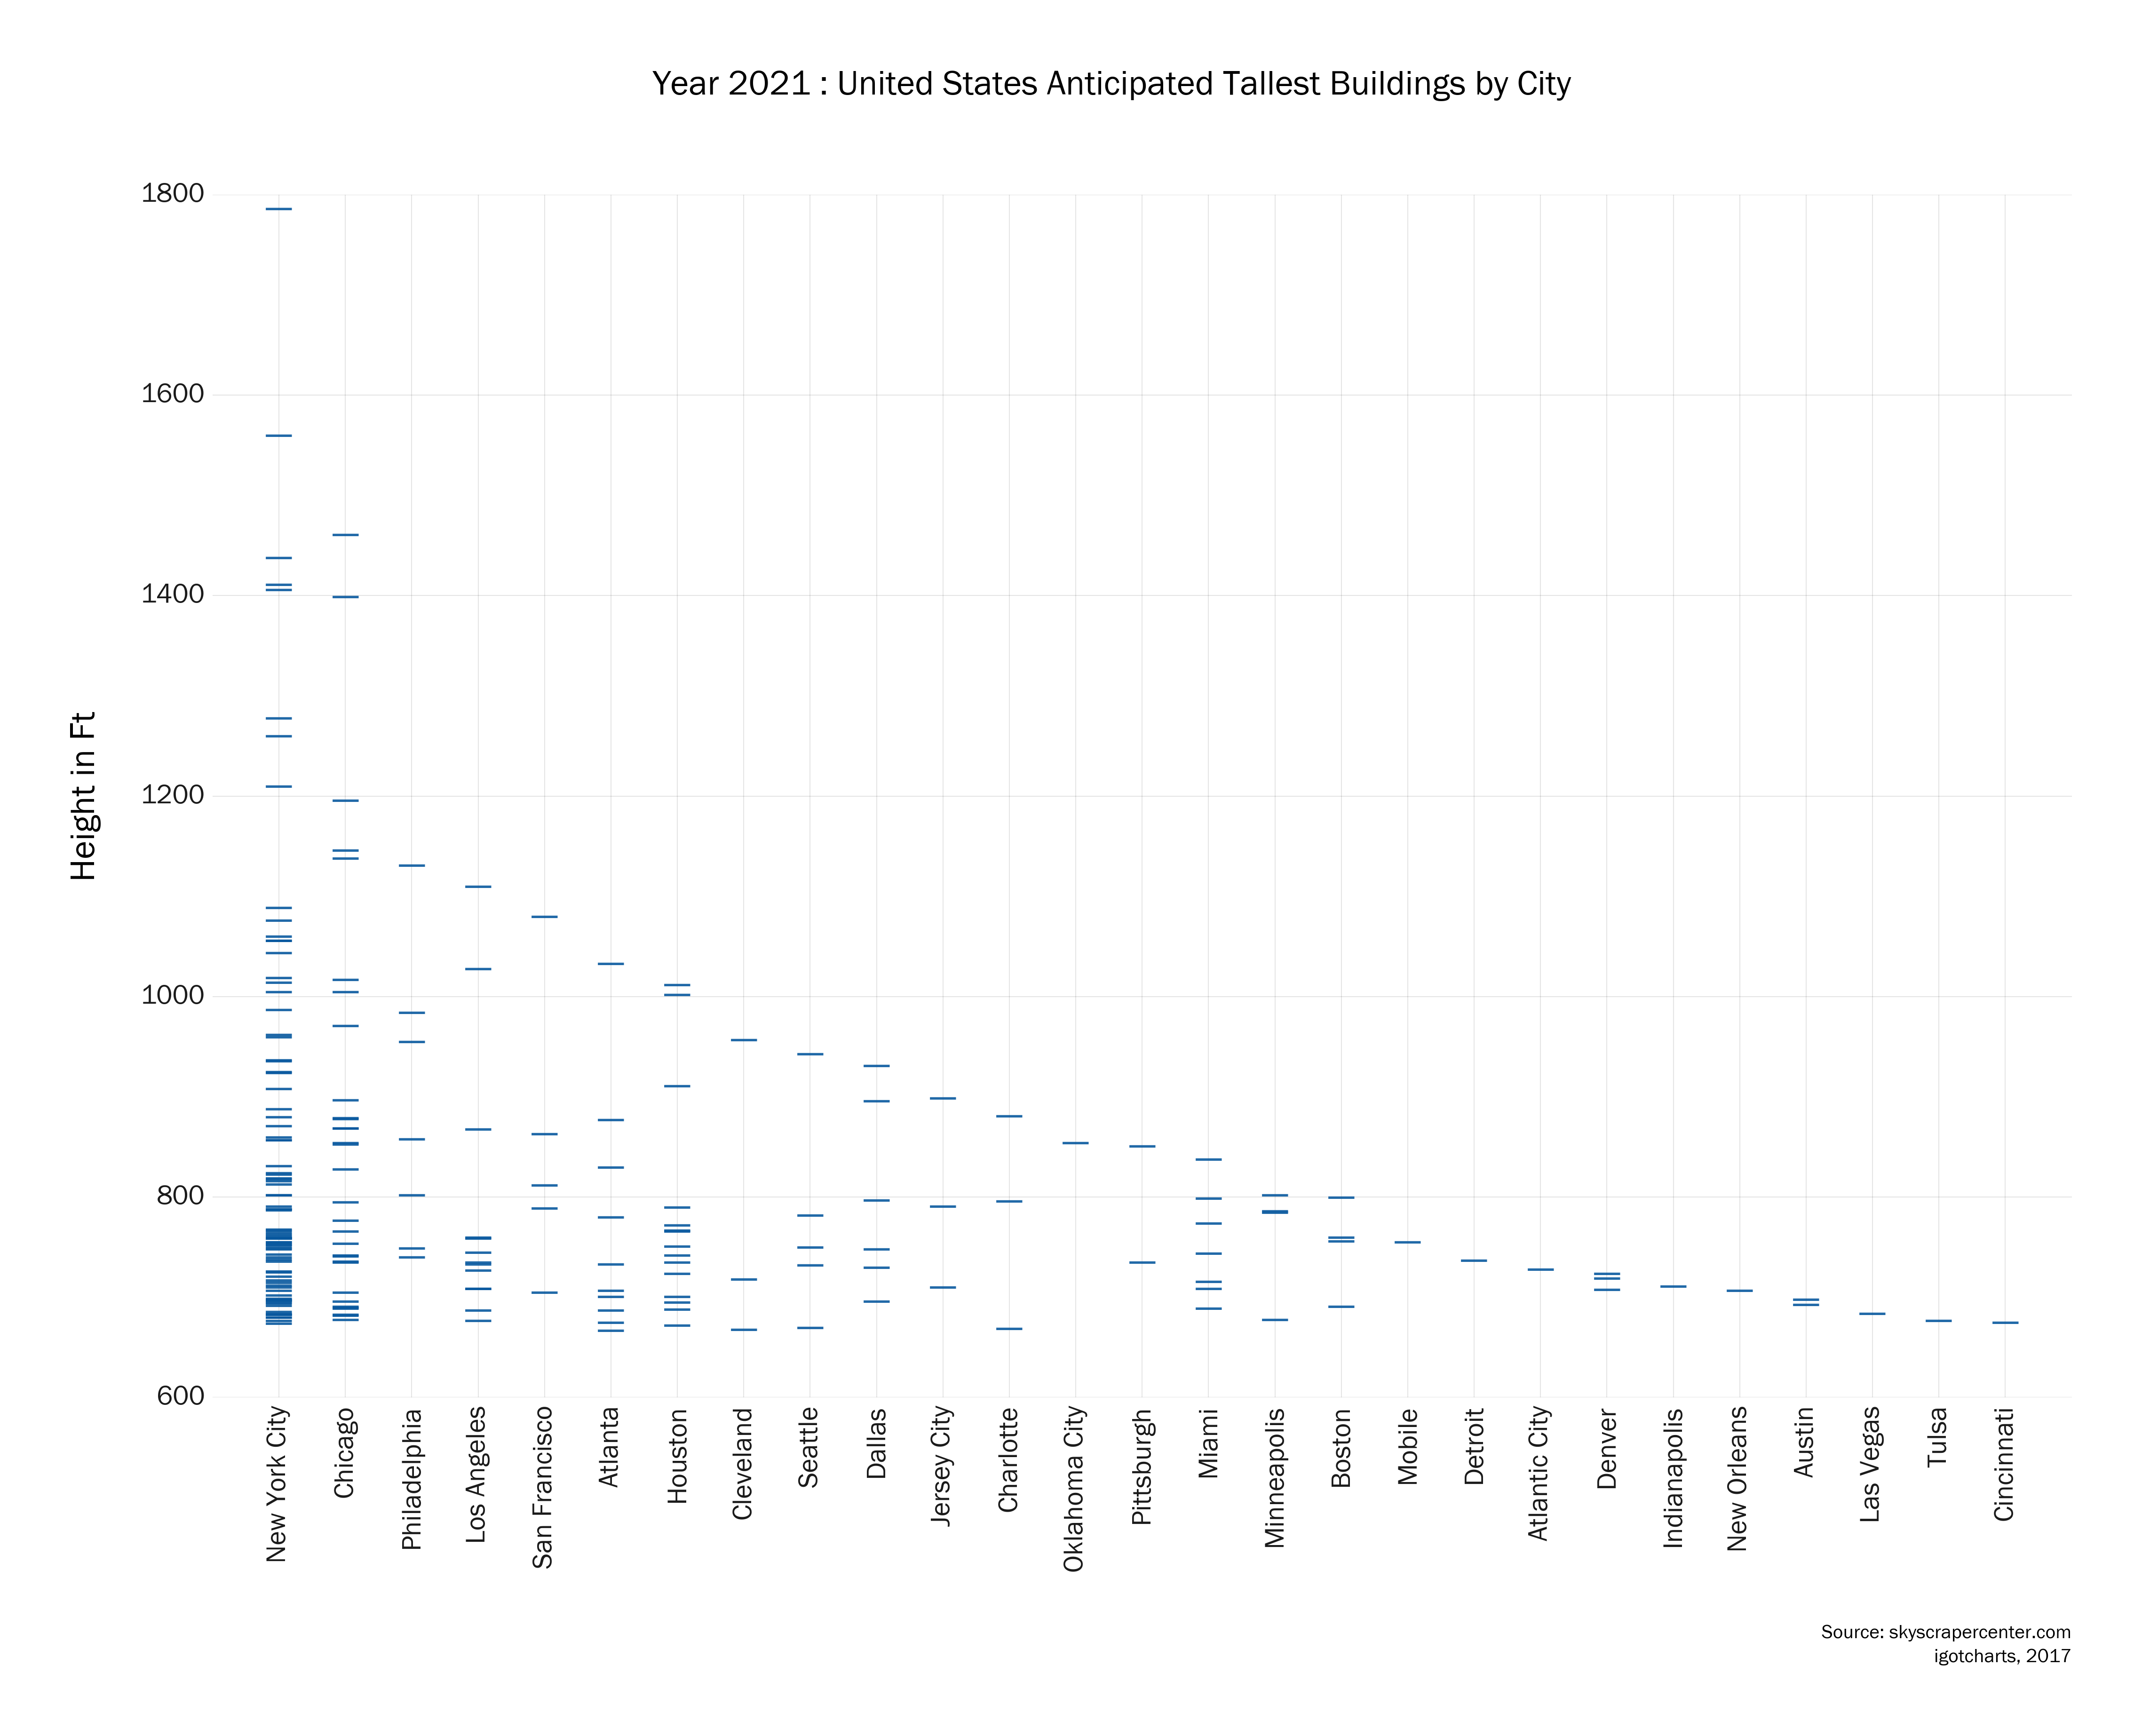

The dashboard page shown, as its layout file describes it:
{"tool":"tableau","page":{"name":"Dashboard 1","canvas":[1000,700],"ordinal":0},"visuals":[{"type":"worksheet","title":"Sheet 1","mark":"Shape","rows":["Function"],"cols":["Chart Type"],"box":[7,10,934,584]},{"type":"worksheet","title":"column totals","mark":"Automatic","cols":["Chart Type"],"box":[166,608,777,31]}]}

Visuals, with their boxes in screenshot pixels (x1, y1, x2, y2):
"Sheet 1" worksheet (Shape marks): 0/79/2003/1404
"column totals" worksheet: 243/1436/2007/1506
